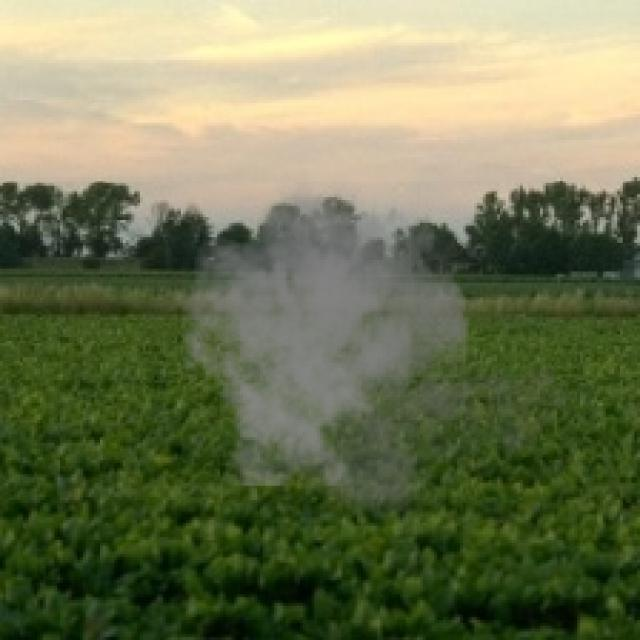smoke: (172, 168, 574, 528)
